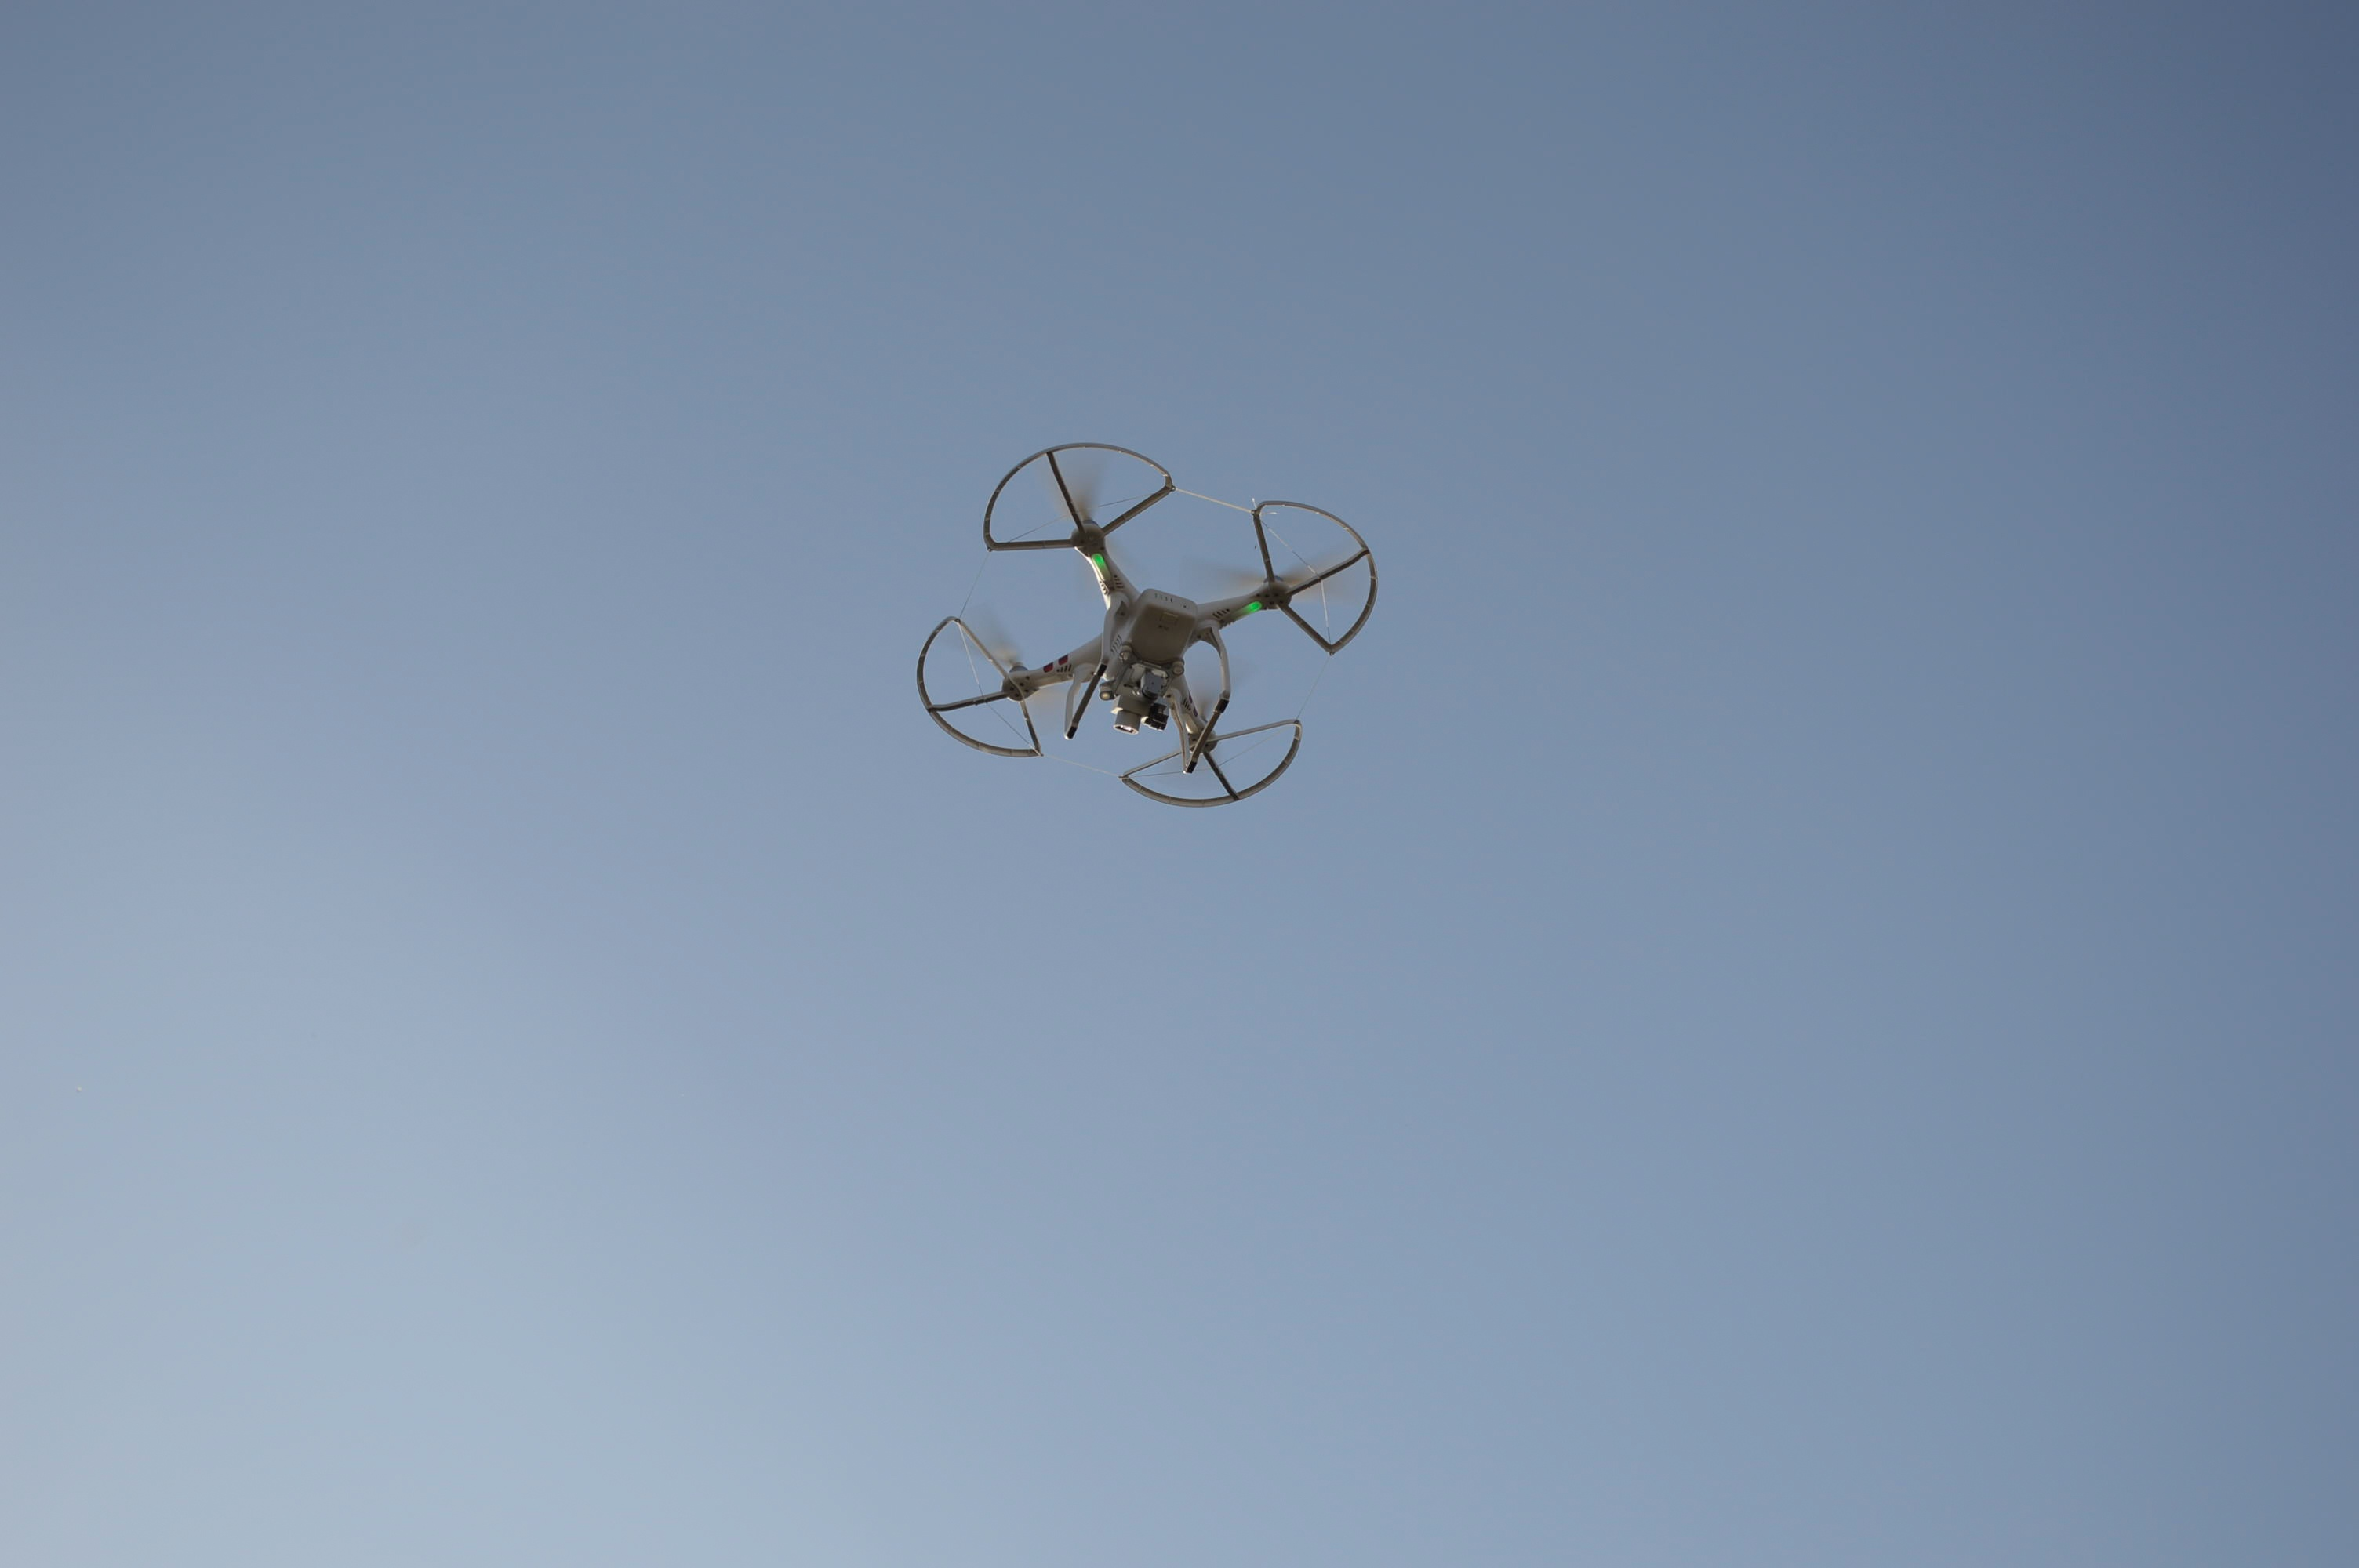DJI: (913, 436, 1386, 808)
